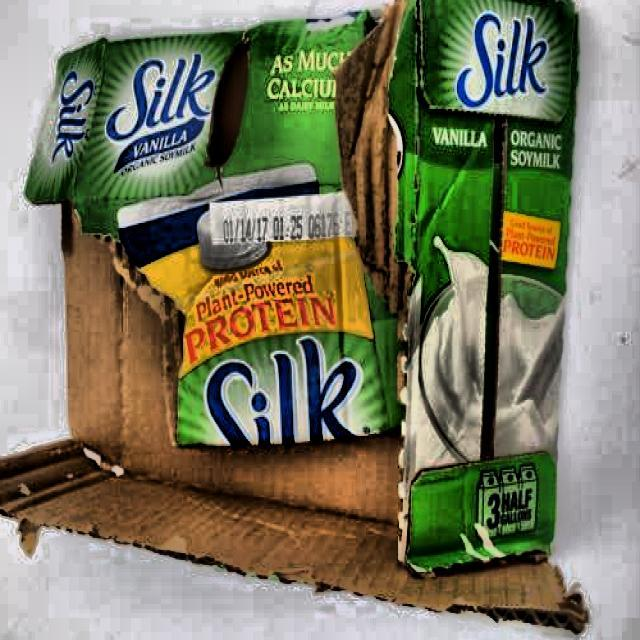cardboard: (0, 0, 589, 635)
